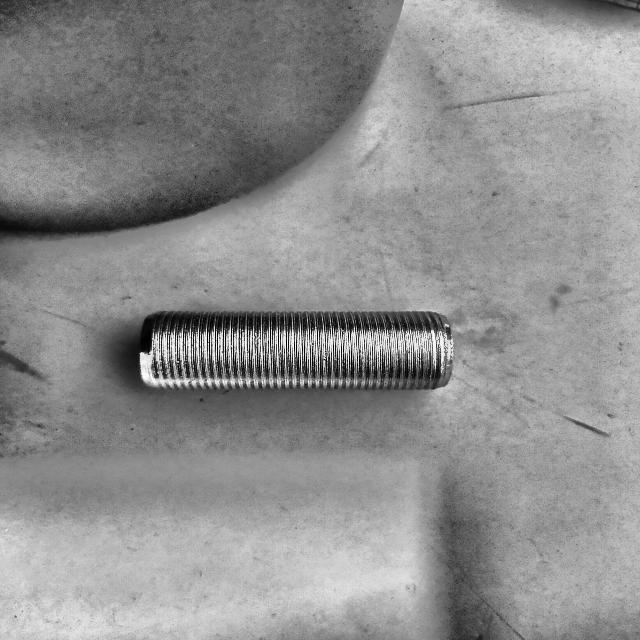Broken: (140, 310, 453, 391)
